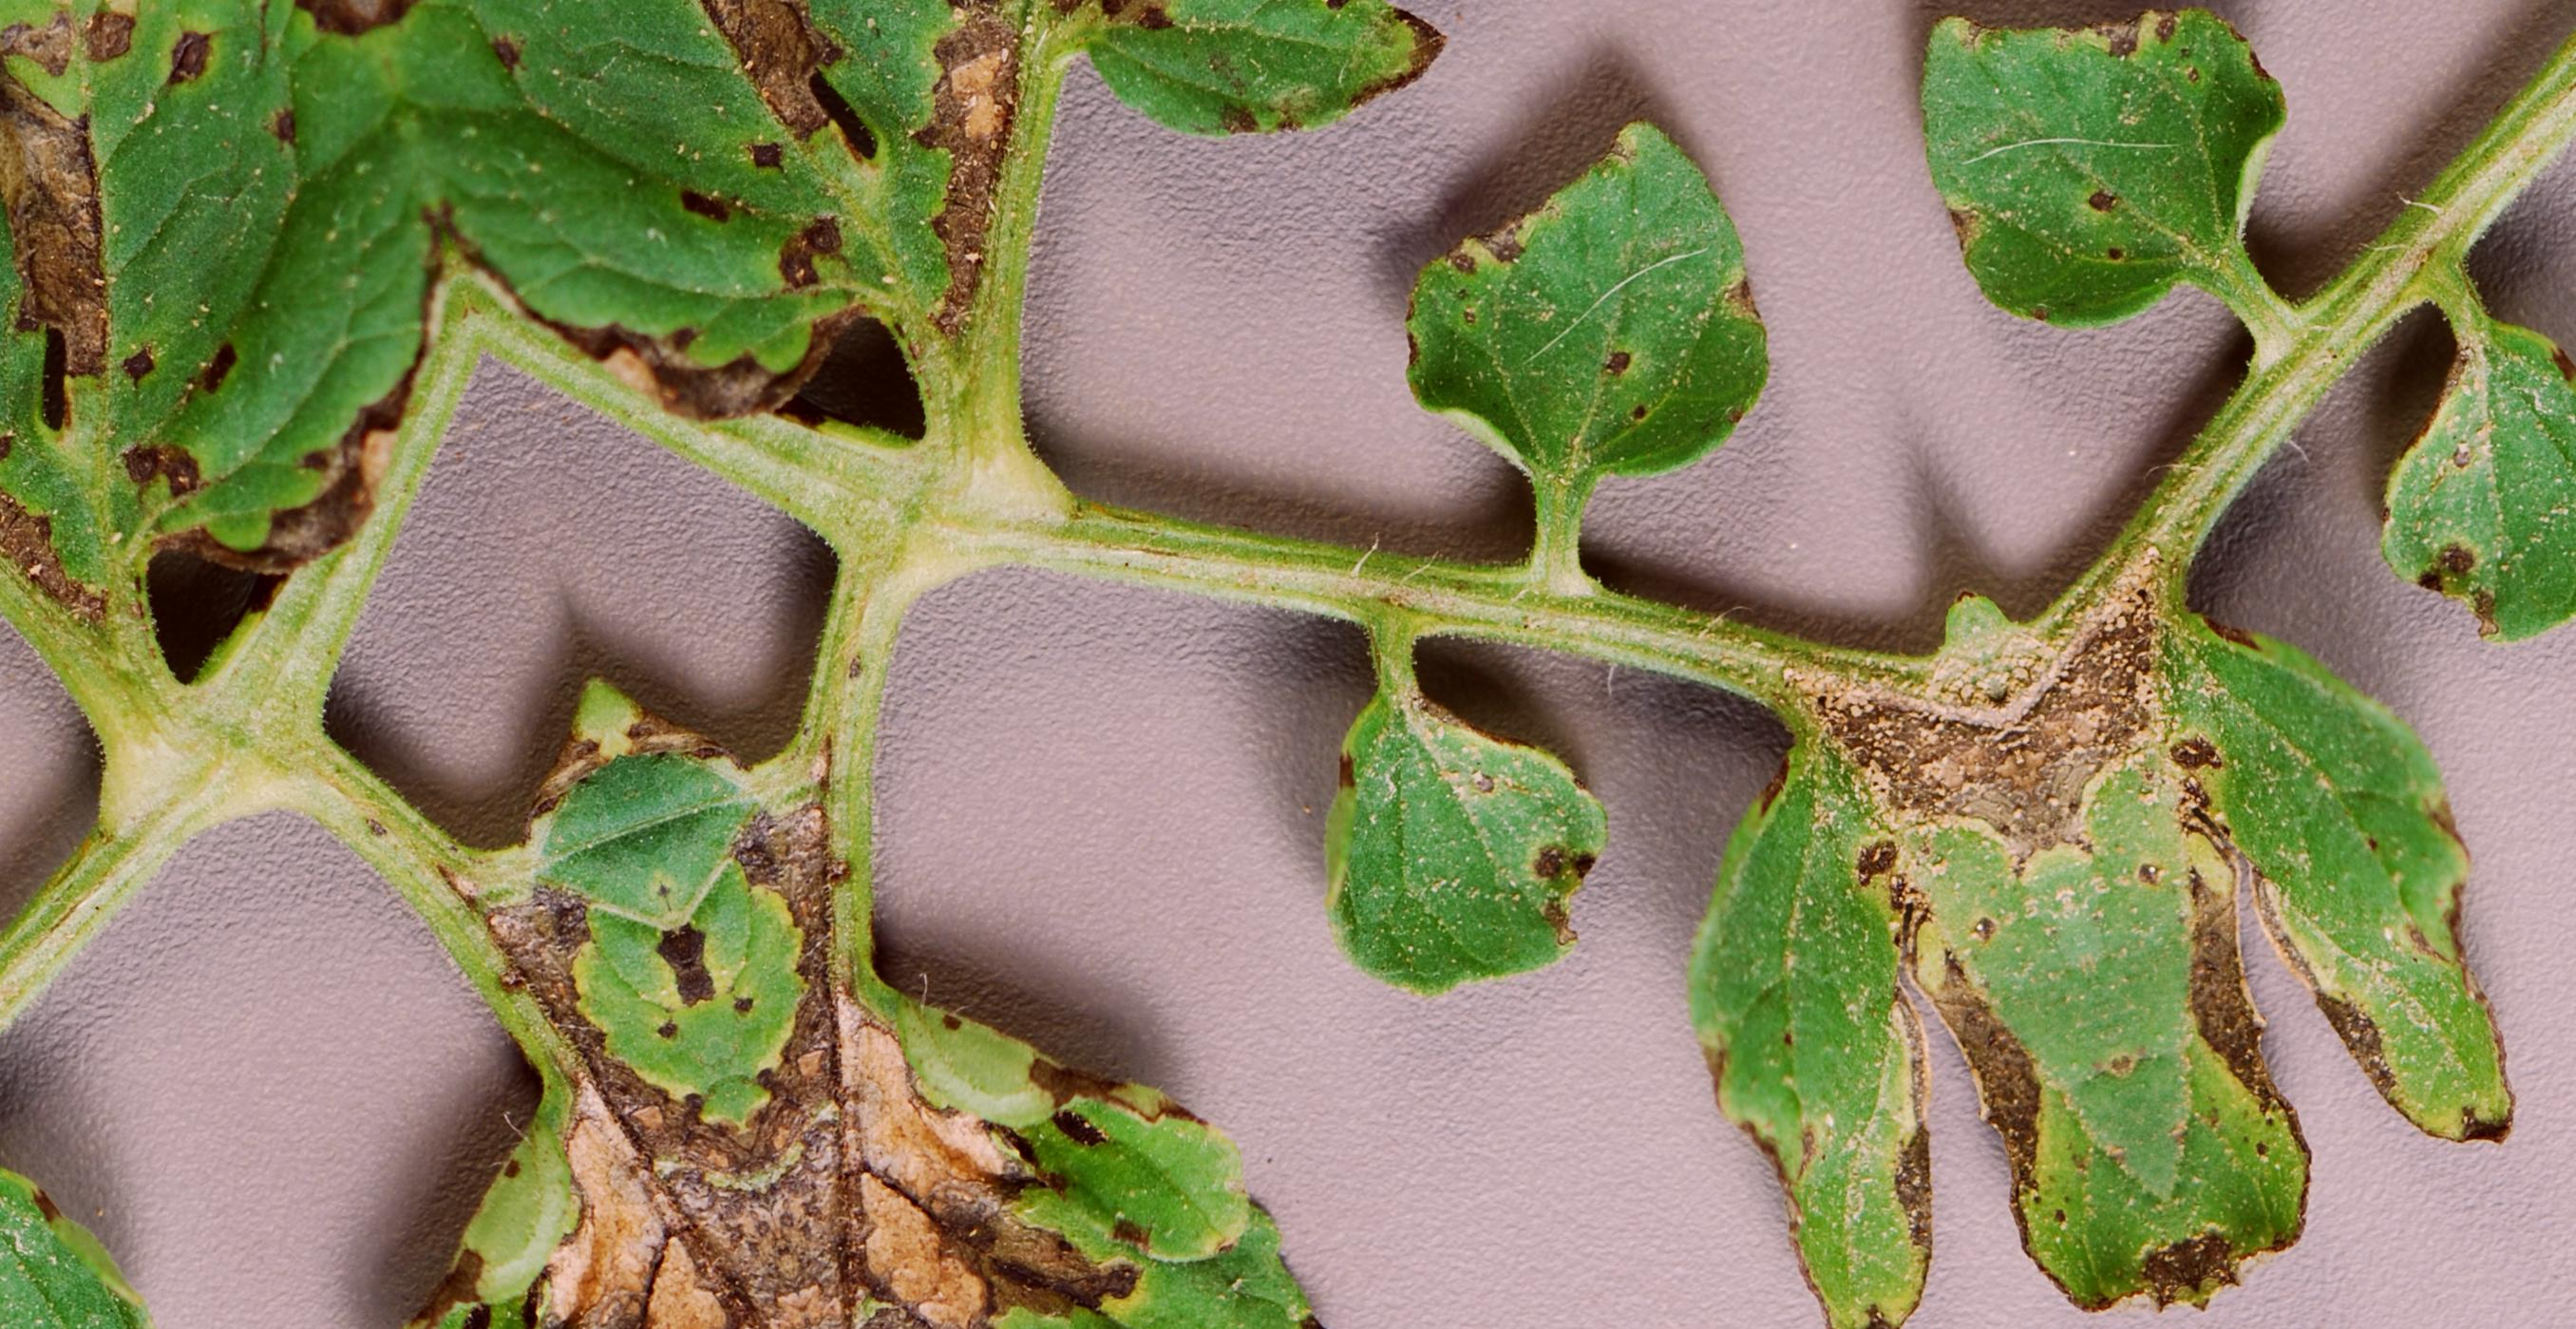Tomato Septoria leaf spot: (1276, 342, 2301, 1329), (552, 383, 1600, 1329), (488, 0, 1795, 424), (249, 0, 1027, 509), (1322, 0, 1891, 600)
